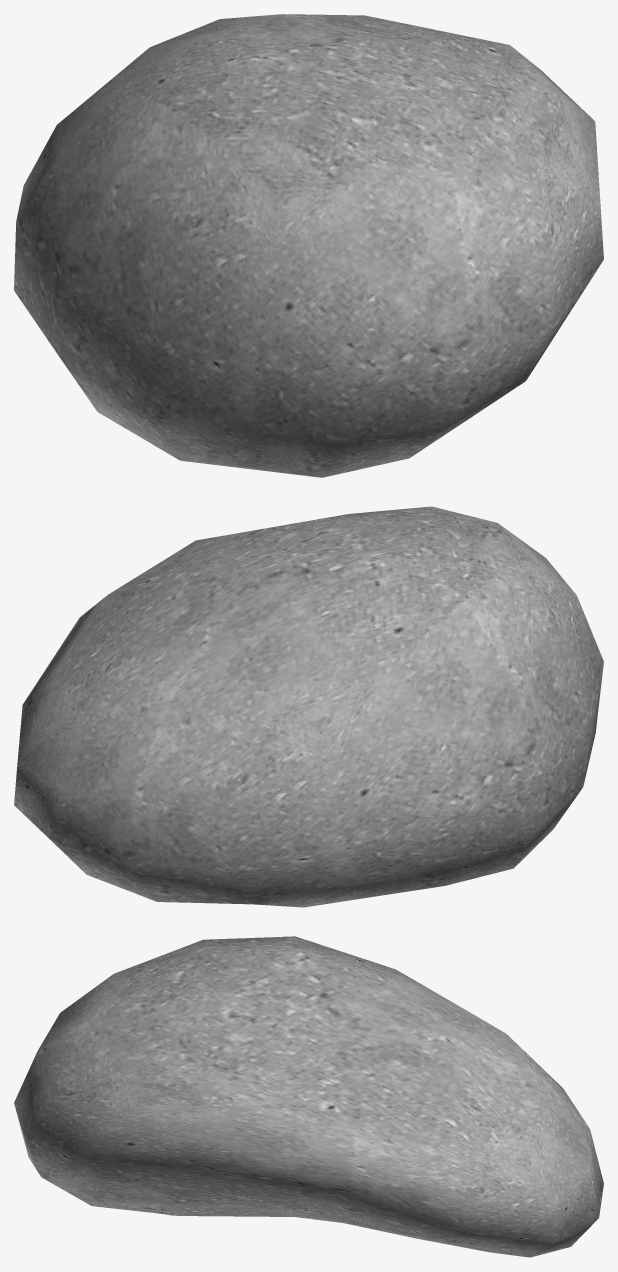
The model's file is Riverstone1.fbx.
3 views of the same model, one above another, from view 1: azimuth 30°, elevation 25°; view 2: azimuth 150°, elevation 25°; view 3: azimuth 270°, elevation 25° (orthographic). The views are drawn at different scales.
Parts seen in each view (by area): view 1: Riverstone; view 2: Riverstone; view 3: Riverstone.
Part boxes in pixels (x1,y1,x2,y2): Riverstone: (14, 14, 603, 477); Riverstone: (14, 506, 603, 907); Riverstone: (14, 936, 603, 1257).
Bounding box in the file's own units: 97.63 × 62.33 × 123.
Materials: 1 (1 with a texture image).
